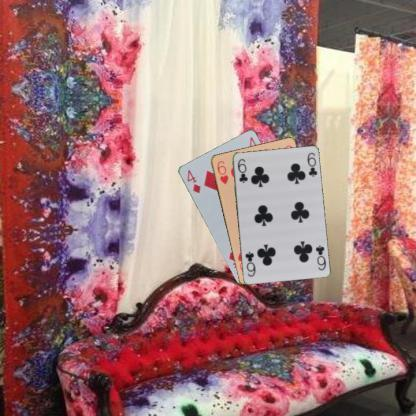4d: (184, 167, 202, 194)
6c: (313, 242, 327, 272), (235, 156, 249, 184)
6h: (214, 158, 230, 186)
